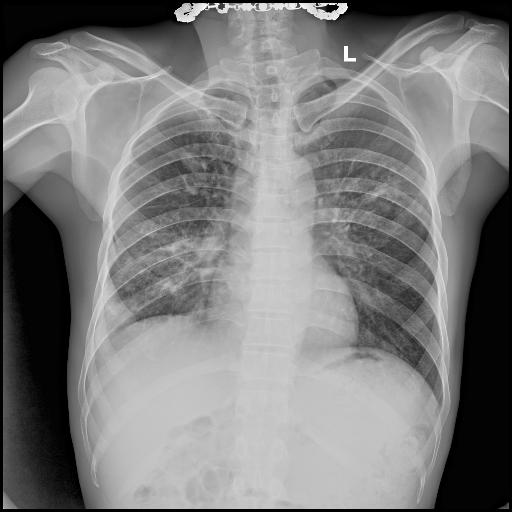Consolidation: (80, 272, 116, 316)
Infiltration: (66, 88, 174, 234), (274, 102, 372, 209)
Lung Opacity: (84, 282, 112, 318)
Pleural effusion: (70, 270, 106, 333)
Pleural thickening: (70, 270, 106, 333)
Pulmonary fibrosis: (51, 152, 167, 254), (268, 110, 374, 200), (161, 116, 197, 154)
